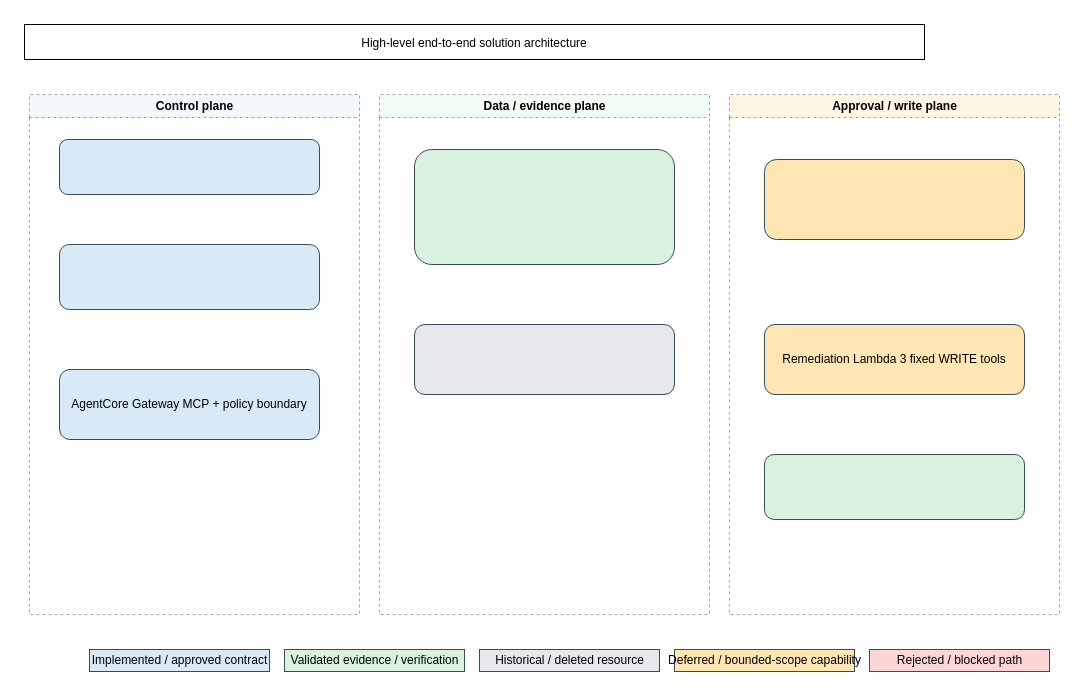
Some shapes in this 1077 by 689 pixel diagram are drawn without their labels. The centre of each missing label's shape, as x and y in pixels:
AgentCore Runtime agent: [189,277]
AWS evidence APIs Reachability Analyzer CloudWatch metrics: [544,206]
Diagnostic Lambda READ tools: [544,359]
Human approval Approval Lambda + DynamoDB: [894,199]
Operator: [189,166]
READ verification result + drift warning: [894,487]
